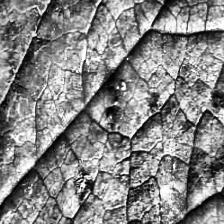Angular Leafspot: (41, 0, 224, 224)
